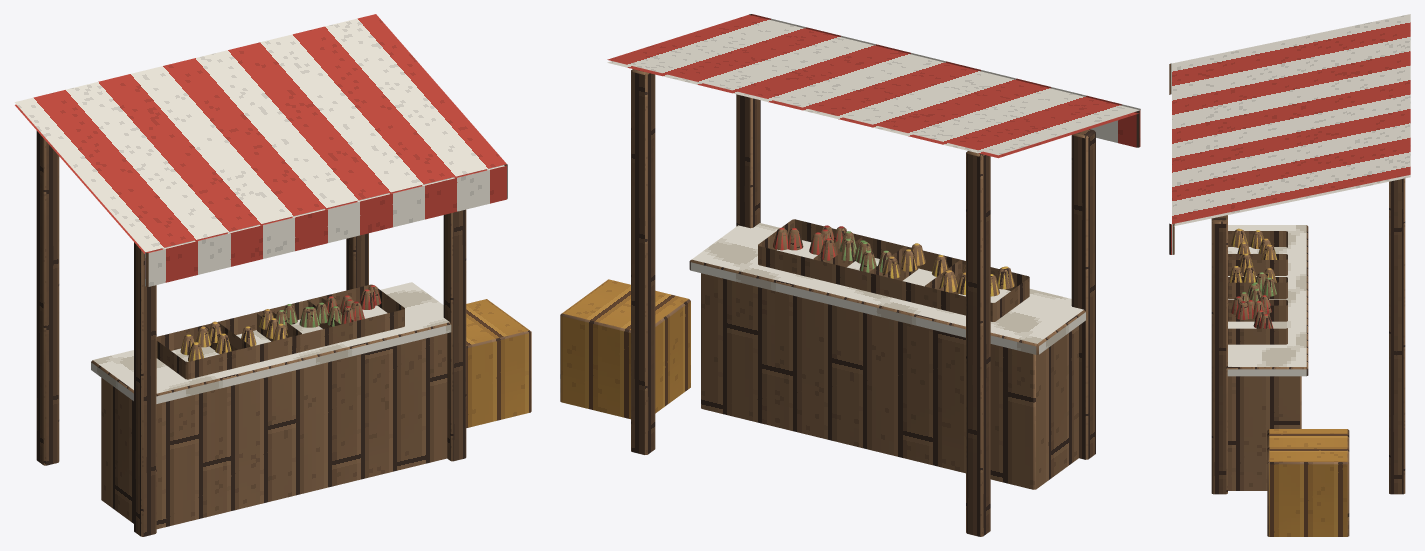
Rendered from market_stall_3.glb.
3 views of the same model, side by side, from view 1: azimuth 30°, elevation 25°; view 2: azimuth 150°, elevation 25°; view 3: azimuth 270°, elevation 25° (orthographic). The views are drawn at different scales.
Visible parts, largest first — view 1: market_stall_4; view 2: market_stall_4; view 3: market_stall_4.
Part boxes in pixels (<box>): market_stall_4: <box>14,14,531,536</box>; market_stall_4: <box>560,14,1140,536</box>; market_stall_4: <box>1169,14,1410,536</box>.
Size of the model in its own units: 3.39 by 2.65 by 1.77.
8 materials, 8 textured.
